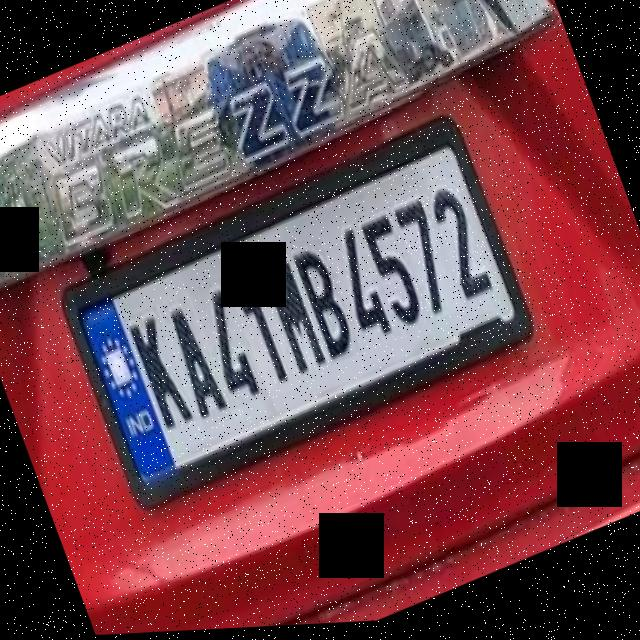1: (222, 260, 300, 404)
4: (188, 276, 268, 414), (324, 222, 402, 361)
5: (352, 200, 431, 342)
7: (388, 191, 463, 328)
A: (160, 297, 233, 434)
B: (291, 240, 363, 370)
K: (121, 306, 198, 439)
M: (258, 252, 330, 383)
